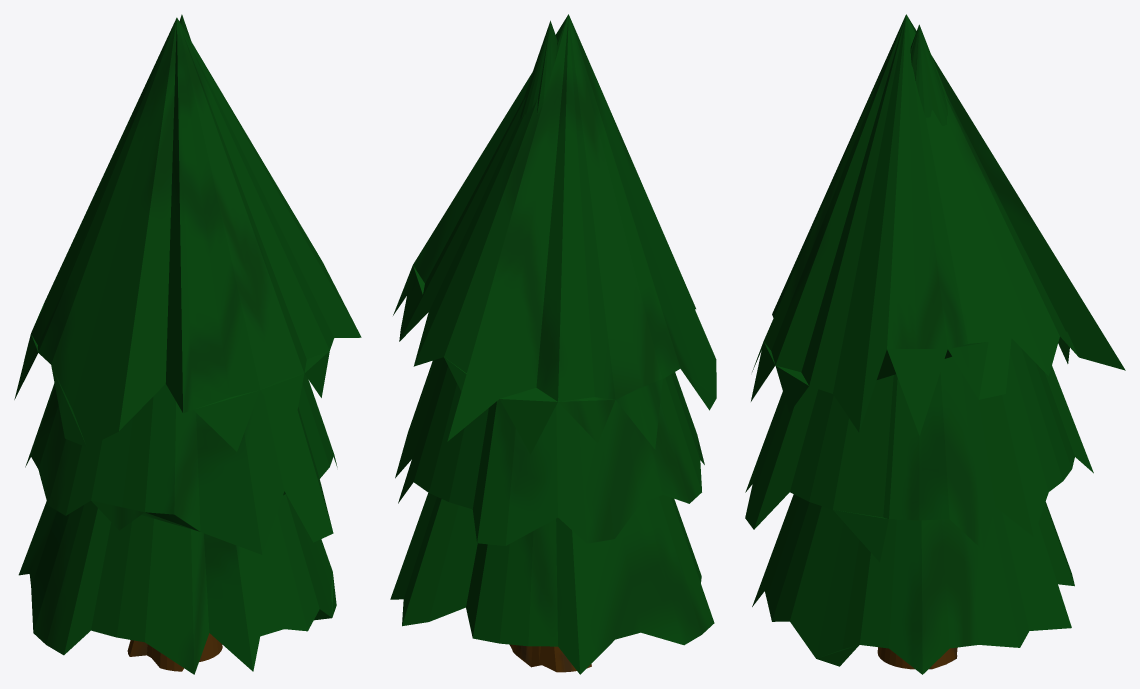
The model's file is ObjectFirTree.dae.
3 views of the same model, side by side, from view 1: azimuth 30°, elevation 25°; view 2: azimuth 150°, elevation 25°; view 3: azimuth 270°, elevation 25° (orthographic).
Visible parts, largest first — view 1: Cone.002, Cone, Cone.001, Cylinder; view 2: Cone.002, Cone, Cone.001, Cylinder; view 3: Cone.002, Cone.001, Cone, Cylinder.
Part boxes in pixels (<box>): Cone.002: <box>14,17,361,451</box>; Cone: <box>18,494,336,674</box>; Cone.001: <box>25,14,337,554</box>; Cylinder: <box>127,633,222,671</box>; Cone.002: <box>393,14,716,454</box>; Cone: <box>390,493,714,674</box>; Cone.001: <box>395,20,704,545</box>; Cylinder: <box>510,644,591,672</box>; Cone.002: <box>751,14,1125,435</box>; Cone.001: <box>745,24,1093,562</box>; Cone: <box>752,494,1074,674</box>; Cylinder: <box>877,647,957,669</box>.
Size of the model in its own units: 4.17 by 4.57 by 8.45.
Materials: 1 (1 with a texture image).
